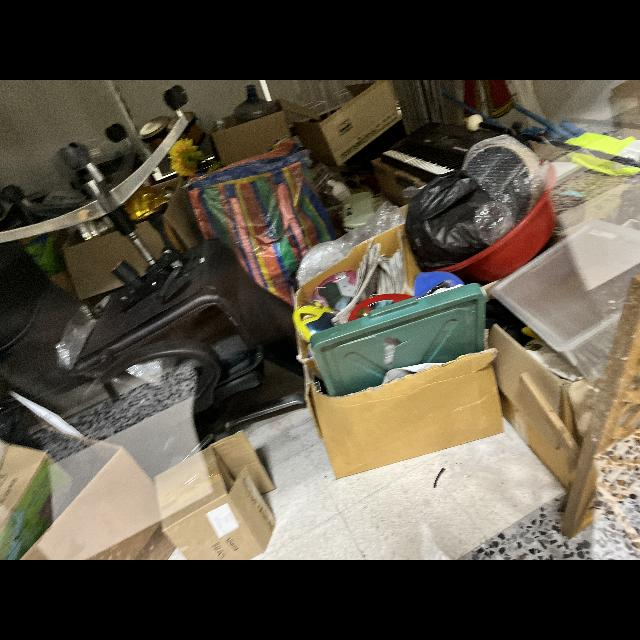cardboard_box: (302, 342, 502, 483), (1, 422, 158, 560), (154, 430, 276, 556), (284, 80, 408, 164), (204, 99, 300, 160)
